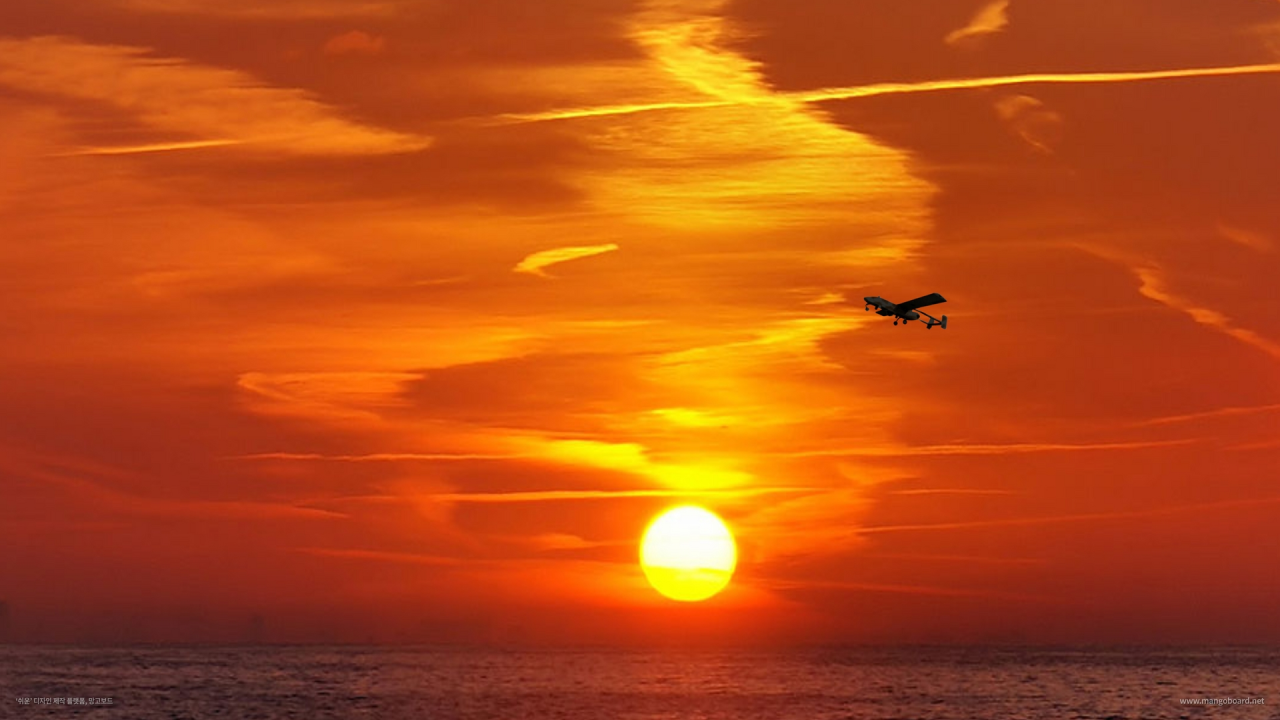military drone: (863, 292, 947, 329)
